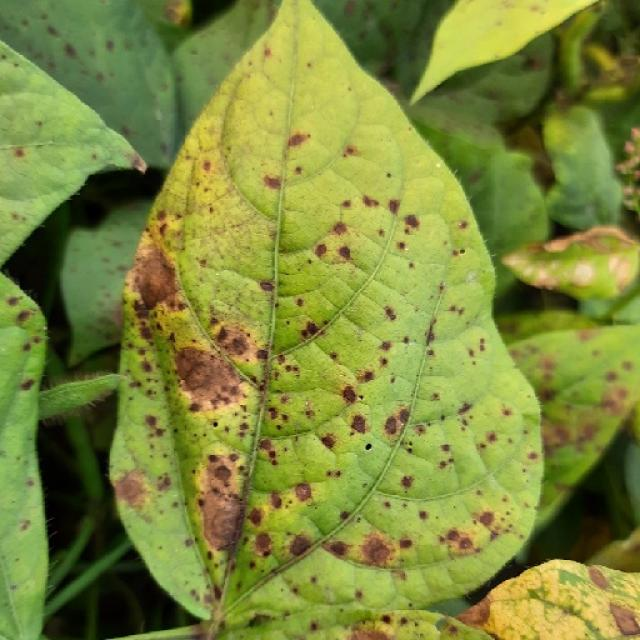Anthracnose: (120, 230, 192, 409), (163, 339, 249, 415), (196, 449, 250, 561), (133, 239, 178, 312), (204, 321, 259, 370), (113, 469, 151, 510), (359, 535, 394, 566), (454, 601, 492, 628), (607, 602, 638, 635), (383, 405, 412, 437), (443, 528, 475, 554), (587, 566, 611, 590), (288, 534, 312, 557), (211, 461, 232, 484), (349, 413, 367, 435), (293, 482, 312, 502), (287, 131, 309, 148), (349, 632, 391, 640), (424, 322, 438, 346), (477, 510, 495, 527), (402, 214, 419, 231), (263, 174, 281, 190), (341, 386, 357, 404), (15, 310, 34, 324), (320, 434, 336, 450), (304, 321, 320, 337), (331, 221, 347, 236), (362, 195, 379, 209), (338, 245, 352, 260), (458, 401, 473, 415), (19, 378, 35, 391), (400, 475, 414, 489), (64, 43, 77, 58), (259, 280, 274, 292), (604, 370, 619, 382), (18, 519, 31, 532), (384, 306, 396, 320), (13, 147, 25, 158)
Blackgram: (101, 0, 550, 639)
